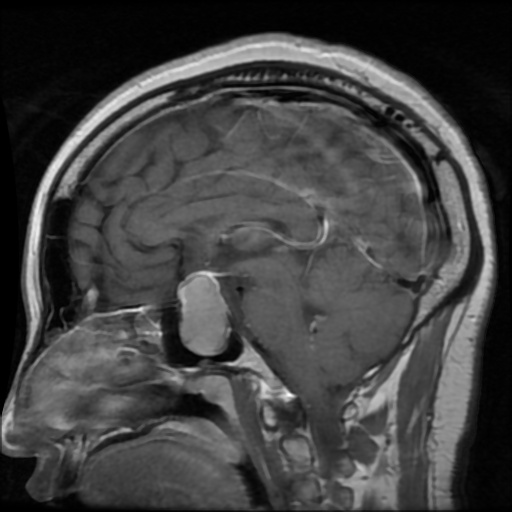pituitary: (179, 272, 227, 356)
